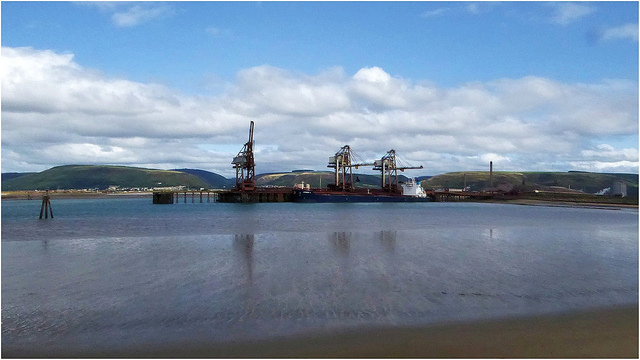bulk carrier: (216, 176, 429, 203)
